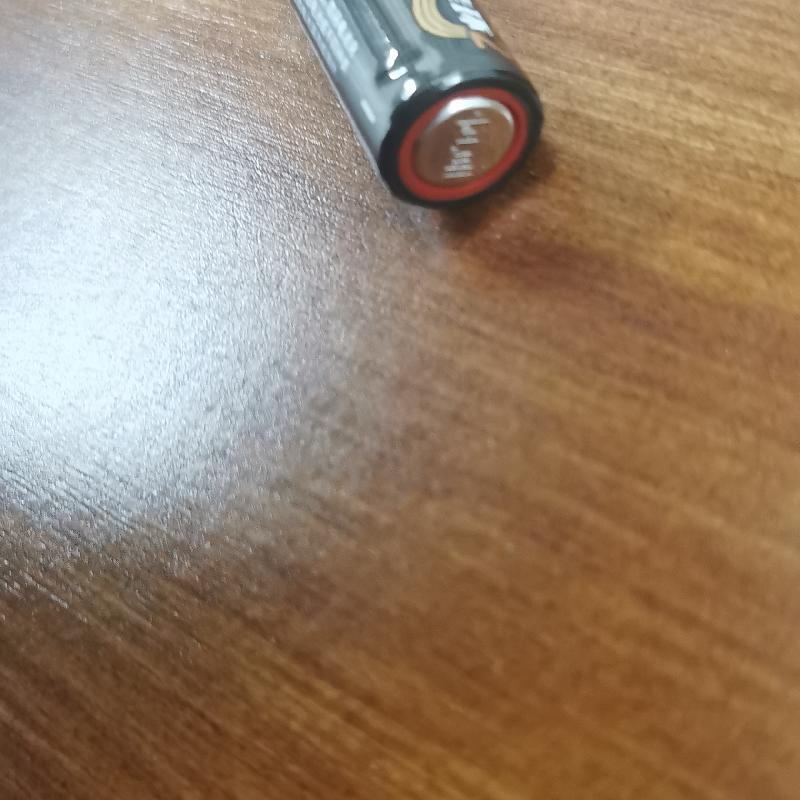battery: (277, 3, 545, 208)
